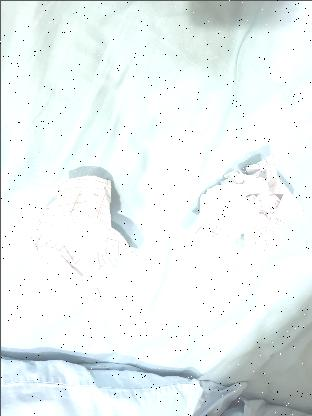Others: (24, 172, 136, 296), (186, 147, 302, 251)
